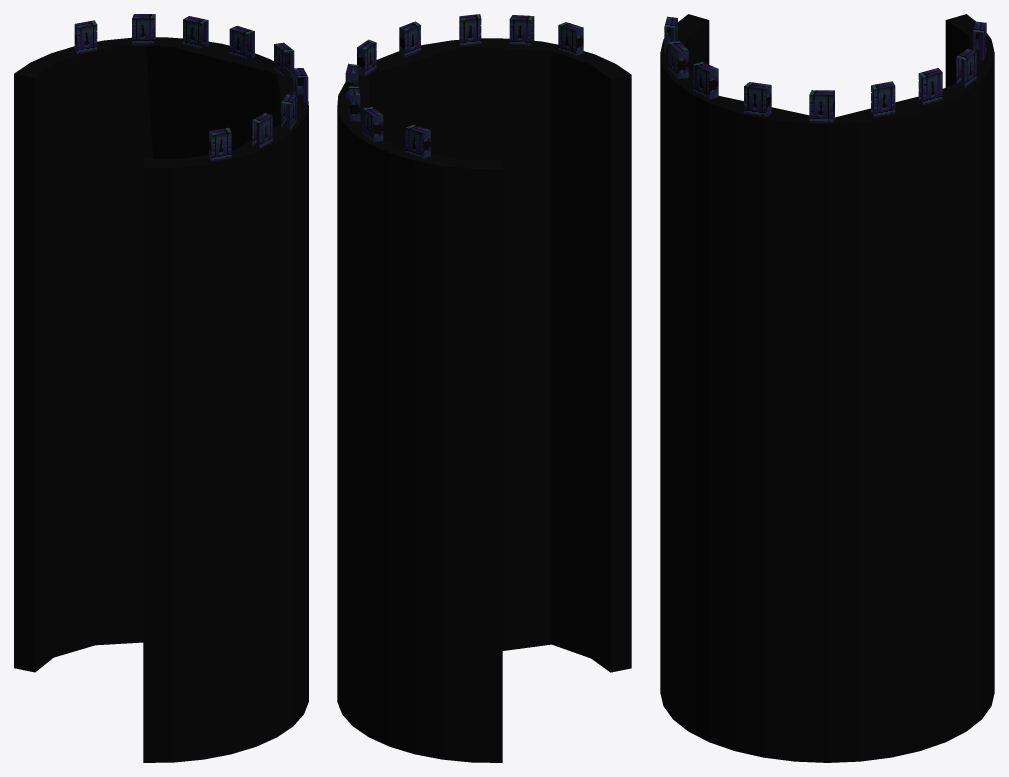
File: lightHouse.fbx
3 views of the same model, side by side, from view 1: azimuth 30°, elevation 25°; view 2: azimuth 150°, elevation 25°; view 3: azimuth 270°, elevation 25° (orthographic). The views are drawn at different scales.
Parts seen in each view (by area): view 1: 柱体, 立方体.005, 立方体.004, 立方体.006, 立方体.008, 立方体.009, 立方体, 立方体.002, 立方体.001; view 2: 柱体, 立方体.008, 立方体.009, 立方体, 立方体.001, 立方体.003, 立方体.006, 立方体.002; view 3: 柱体, 立方体.003, 立方体.001, 立方体.002, 立方体.004, 立方体.005, 立方体, 立方体.006.
Part boxes in pixels (x1=…): 柱体: x1=14, y1=37, x2=308, y2=762; 立方体.005: x1=183, y1=16, x2=208, y2=49; 立方体.004: x1=229, y1=25, x2=254, y2=59; 立方体.006: x1=132, y1=14, x2=155, y2=45; 立方体.008: x1=74, y1=20, x2=97, y2=53; 立方体.009: x1=209, y1=127, x2=231, y2=161; 立方体: x1=252, y1=112, x2=272, y2=148; 立方体.002: x1=274, y1=42, x2=294, y2=78; 立方体.001: x1=281, y1=94, x2=296, y2=130; 柱体: x1=337, y1=38, x2=631, y2=762; 立方体.008: x1=405, y1=124, x2=430, y2=158; 立方体.009: x1=558, y1=22, x2=583, y2=56; 立方体: x1=509, y1=15, x2=534, y2=45; 立方体.001: x1=459, y1=14, x2=481, y2=46; 立方体.003: x1=399, y1=21, x2=420, y2=57; 立方体.006: x1=362, y1=107, x2=383, y2=142; 立方体.002: x1=357, y1=39, x2=376, y2=76; 柱体: x1=660, y1=14, x2=994, y2=762; 立方体.003: x1=744, y1=82, x2=771, y2=117; 立方体.001: x1=693, y1=62, x2=718, y2=99; 立方体.002: x1=809, y1=90, x2=834, y2=122; 立方体.004: x1=871, y1=81, x2=895, y2=117; 立方体.005: x1=918, y1=68, x2=942, y2=105; 立方体: x1=668, y1=41, x2=688, y2=78; 立方体.006: x1=956, y1=48, x2=976, y2=87.
Bounding box in the file's own units: 360 × 280 × 792.
